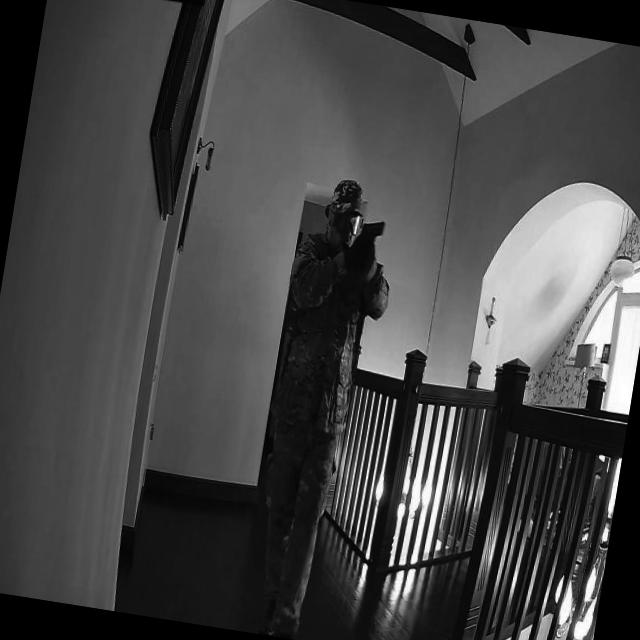gun: (351, 213, 388, 256)
person with a gun: (240, 172, 397, 640)
